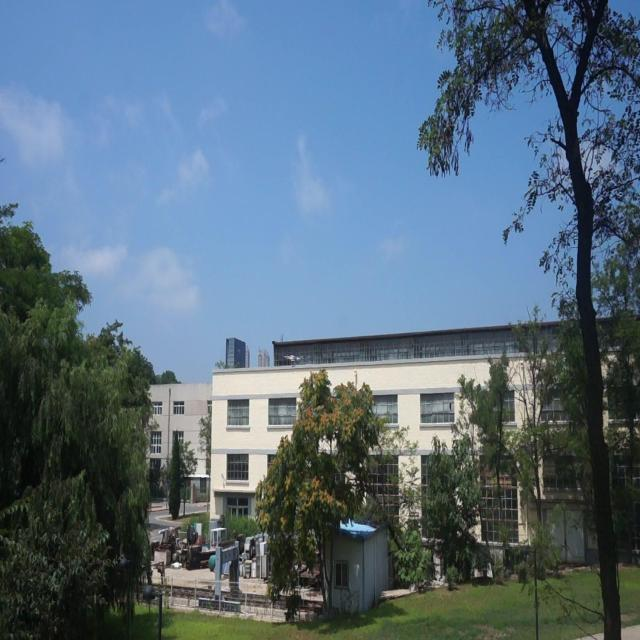drone: (282, 347, 301, 372)
